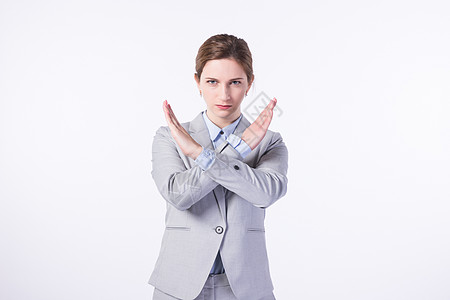no-phone: (154, 91, 211, 163), (234, 95, 289, 160)
